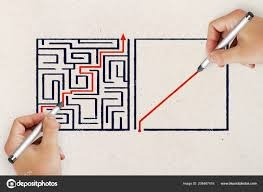maze: (36, 40, 128, 112), (61, 113, 130, 129)
